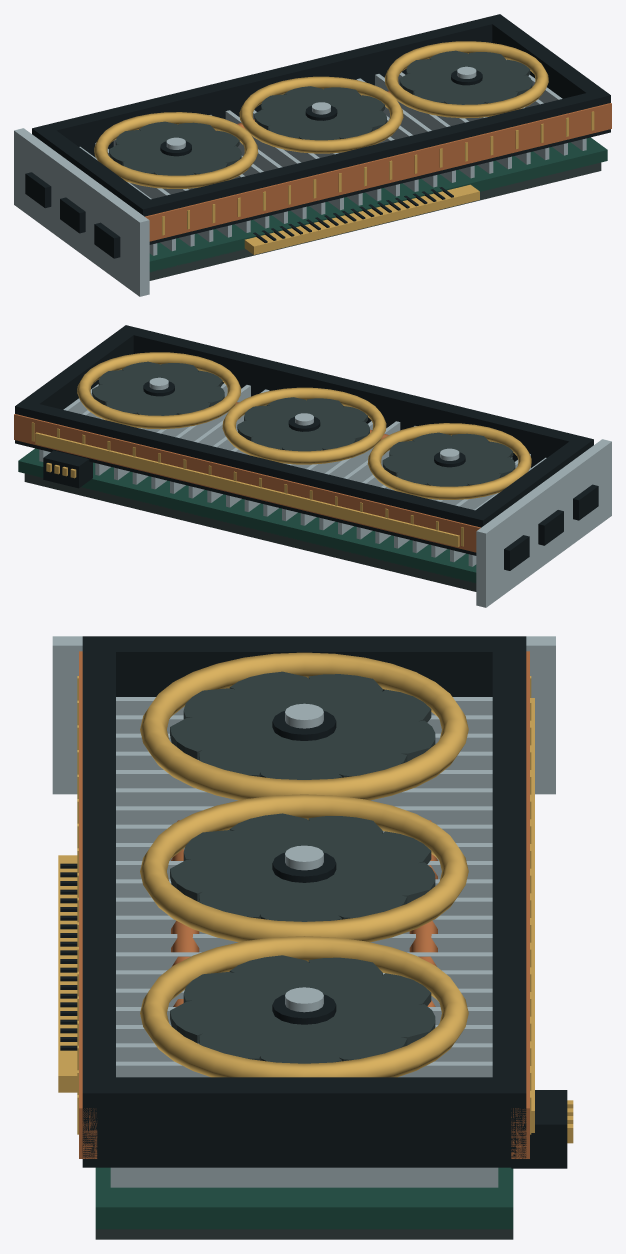
Rendered from gpu-proart.glb.
3 views of the same model, one above another, from view 1: azimuth 30°, elevation 25°; view 2: azimuth 150°, elevation 25°; view 3: azimuth 270°, elevation 25° (orthographic). The views are drawn at different scales.
Parts seen in each view (by area): view 1: Rubber and ABS, Contacts, Brushed aluminium, Anodized graphite (×3), Copper heat pipes, gpu-proart, fan-rotor (×3); view 2: Rubber and ABS, Contacts, Brushed aluminium, Anodized graphite (×3), gpu-proart, Copper heat pipes, fan-rotor (×3); view 3: Rubber and ABS, Anodized graphite (×3), Contacts, Brushed aluminium, gpu-proart, Copper heat pipes, fan-rotor (×3).
Part boxes in pixels (x1,y1,x2,y2): Rubber and ABS: [25, 14, 610, 258]; Contacts: [94, 41, 594, 254]; Brushed aluminium: [14, 59, 586, 296]; Anodized graphite (×3): [109, 50, 532, 175]; Copper heat pipes: [145, 91, 611, 241]; gpu-proart: [149, 137, 607, 280]; fan-rotor (×3): [160, 66, 482, 156]; Rubber and ABS: [15, 325, 598, 570]; Contacts: [31, 352, 531, 547]; Brushed aluminium: [39, 383, 611, 607]; Anodized graphite (×3): [92, 361, 515, 486]; gpu-proart: [18, 448, 476, 591]; Copper heat pipes: [14, 402, 480, 552]; fan-rotor (×3): [143, 377, 465, 467]; Rubber and ABS: [60, 636, 567, 1168]; Anodized graphite (×3): [170, 671, 435, 1063]; Contacts: [58, 652, 573, 1143]; Brushed aluminium: [52, 636, 555, 1187]; gpu-proart: [95, 1167, 513, 1239]; Copper heat pipes: [79, 651, 529, 1158]; fan-rotor (×3): [272, 703, 336, 1024].
Size of the model in its own units: 3 by 0.5085 by 1.4.
